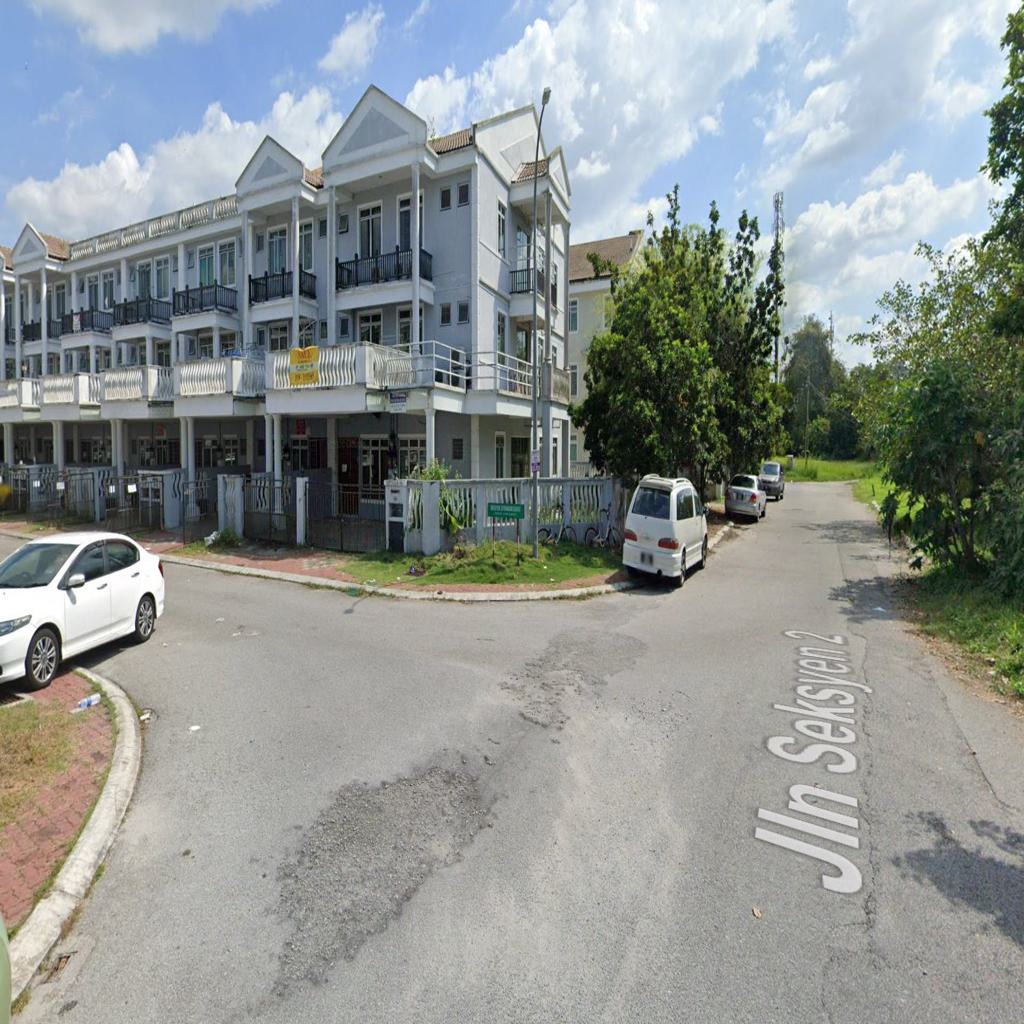Junction: (52, 548, 580, 907)
